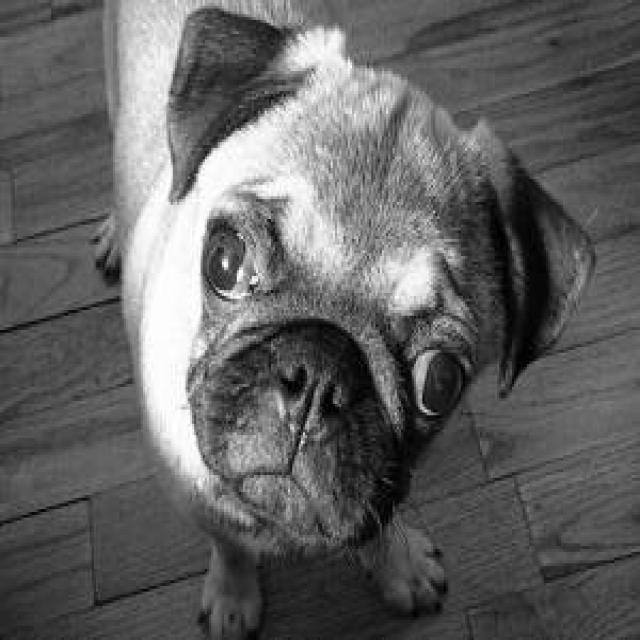dog-pug: (87, 3, 604, 634)
